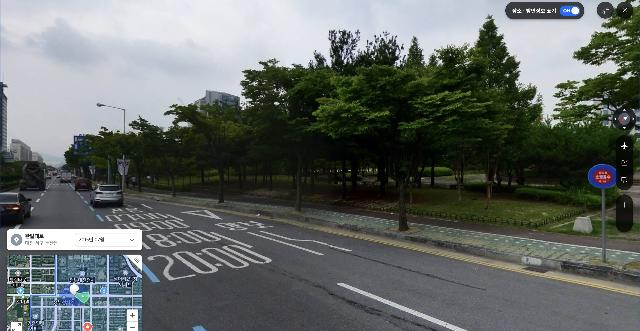other: (310, 67, 467, 232), (422, 13, 544, 196), (394, 59, 515, 211), (236, 58, 353, 212), (551, 0, 640, 158), (158, 104, 263, 214), (95, 114, 186, 197), (63, 127, 136, 189)
